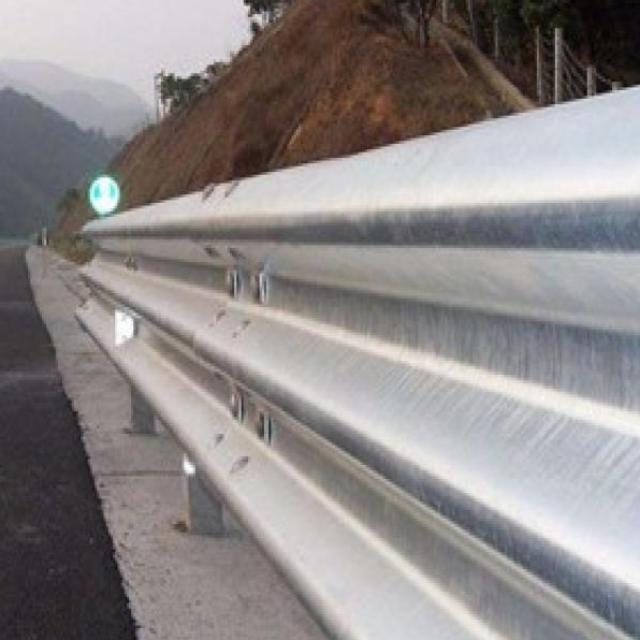Guard rail: (81, 87, 640, 640)
